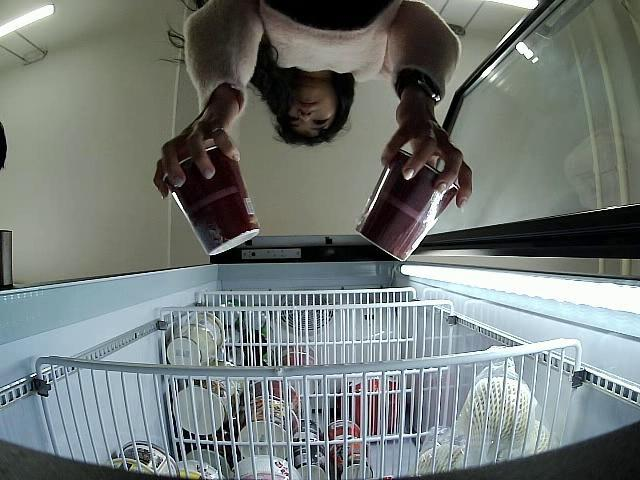06_nuguri_S: (354, 147, 460, 264), (165, 144, 262, 257)
